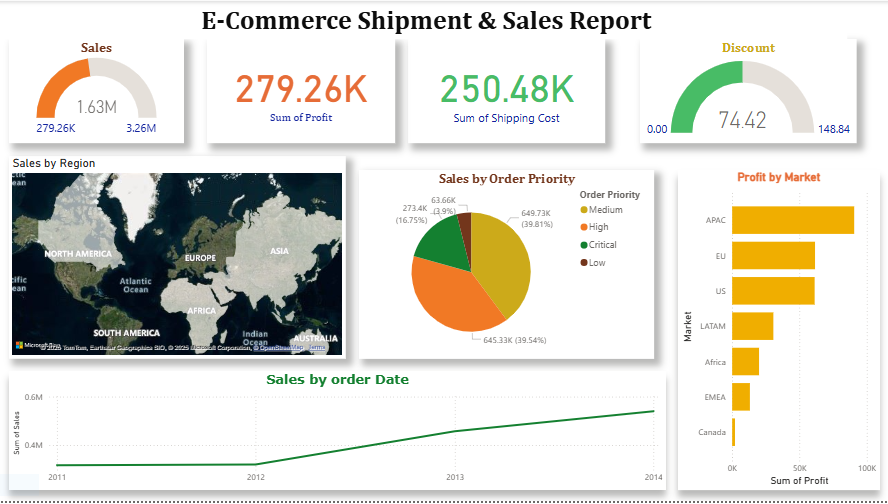

This screenshot's page, from the dashboard's own definition file:
{"tool":"powerbi","page":{"name":"Shipment","canvas":[1280,720],"ordinal":0},"visuals":[{"type":"filledMap","title":"Sales by Region","fields":{"Category":["Table1.Region"]},"box":[13.4,223.4,485.5,292.3],"z":0},{"type":"card","fields":{"Values":["Sum(Table1.Shipping Cost)"]},"box":[587.5,54.7,283.7,149.8],"z":1000},{"type":"gauge","title":"Sales","fields":{"Y":["Sum(Table1.Sales)"],"MinValue":["Sum(Table1.Profit)"]},"box":[13.4,55.4,252,149.5],"z":2000},{"type":"card","fields":{"Values":["Sum(Table1.Profit)"]},"box":[298.1,54.7,270.7,149.8],"z":3000},{"type":"gauge","title":"Discount","fields":{"Y":["Sum(Table1.Discount)"]},"box":[922.2,55.4,312.4,149.5],"z":4000},{"type":"pieChart","title":"Sales by Order Priority","fields":{"Y":["Sum(Table1.Sales)"],"Category":["Table1.Order Priority"]},"box":[517.4,243.6,425,272.1],"z":5000},{"type":"clusteredBarChart","title":"Profit by Market","fields":{"Y":["Sum(Table1.Profit)"],"Category":["Table1.Market"]},"box":[976.3,243.4,290.9,460.8],"z":6000},{"type":"textbox","box":[0,0,1219.5,55.4],"z":7000},{"type":"lineChart","title":"Sales by order Date","fields":{"Y":["Sum(Table1.Sales)"],"Category":["Table1.Order Date.Variation.Date Hierarchy.Year","Table1.Order Date.Variation.Date Hierarchy.Quarter","Table1.Order Date.Variation.Date Hierarchy.Month","Table1.Order Date.Variation.Date Hierarchy.Day"]},"box":[13,532.8,946.1,171.4],"z":8000}]}

Visuals, with their boxes in screenshot pixels (x1, y1, x2, y2), scaled from the page's 1280x720 canvas onto the 888x504 screenshot:
"Sales by Region" filledMap: bbox=[9, 156, 346, 361]
card - Sum(Table1.Shipping Cost): bbox=[408, 38, 604, 143]
"Sales" gauge: bbox=[9, 39, 184, 143]
card - Sum(Table1.Profit): bbox=[207, 38, 395, 143]
"Discount" gauge: bbox=[640, 39, 857, 143]
"Sales by Order Priority" pieChart: bbox=[359, 171, 654, 361]
"Profit by Market" clusteredBarChart: bbox=[677, 170, 879, 493]
textbox: bbox=[0, 0, 846, 39]
"Sales by order Date" lineChart: bbox=[9, 373, 665, 493]
